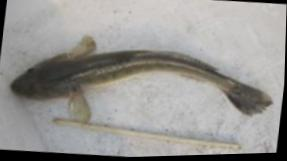fish: (12, 35, 272, 122)
